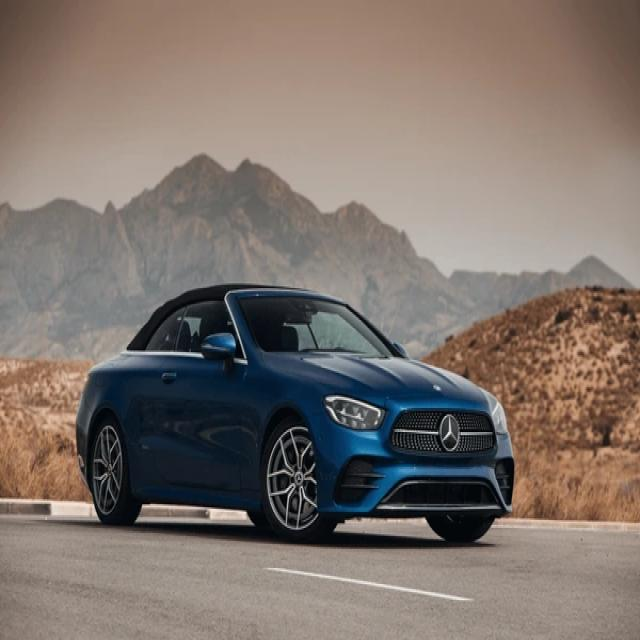mercedes: (437, 415, 467, 455)
